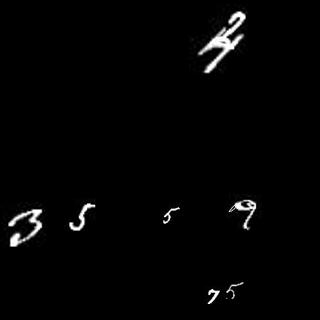five: (70, 199, 93, 233), (161, 202, 182, 226), (224, 280, 246, 302)
nine: (236, 198, 258, 228)
seven: (205, 287, 221, 307)
three: (9, 202, 45, 245)
